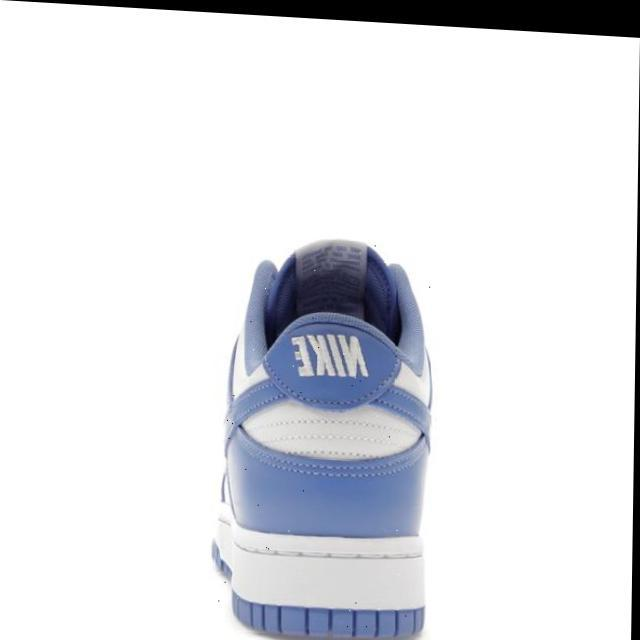J1_InsoleChar: (1, 1, 636, 639)
J1_MateComp: (210, 237, 433, 639)
J1_StitchPattern: (229, 328, 429, 473), (209, 511, 429, 638), (229, 426, 428, 480), (236, 409, 420, 459), (229, 594, 426, 637), (292, 238, 369, 314), (230, 538, 425, 561), (288, 330, 371, 381), (295, 241, 365, 276)
